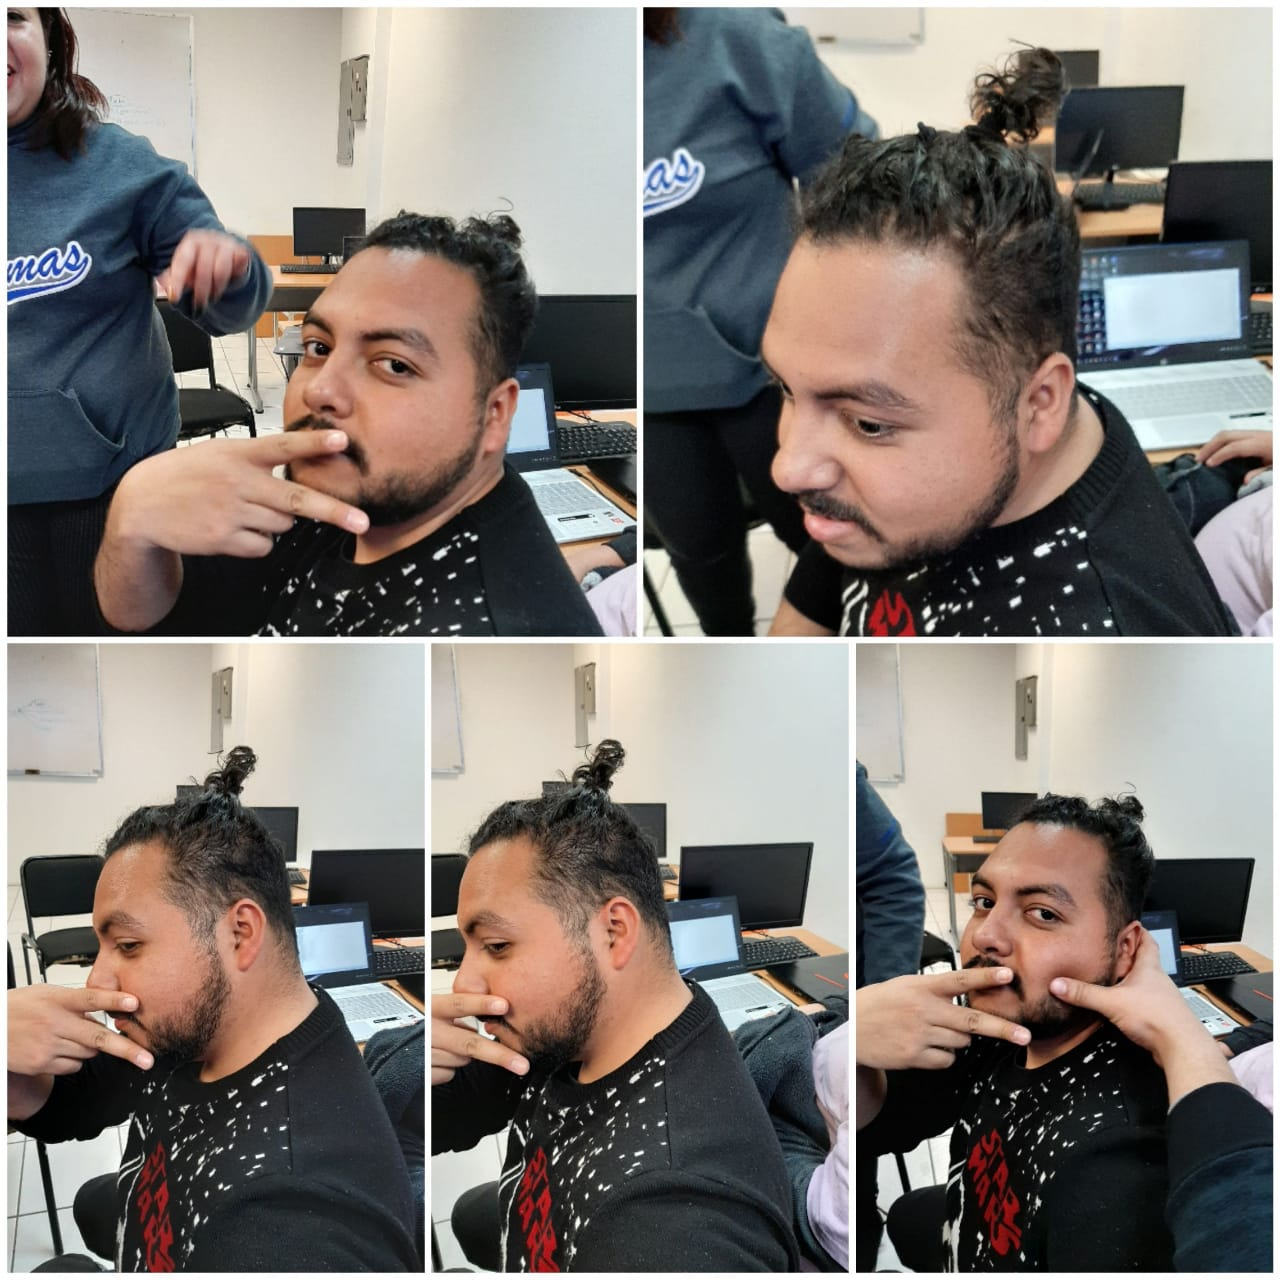Yoshi: (727, 101, 1091, 583), (260, 189, 588, 568), (64, 754, 377, 1133), (444, 768, 727, 1077), (922, 794, 1155, 1115)
